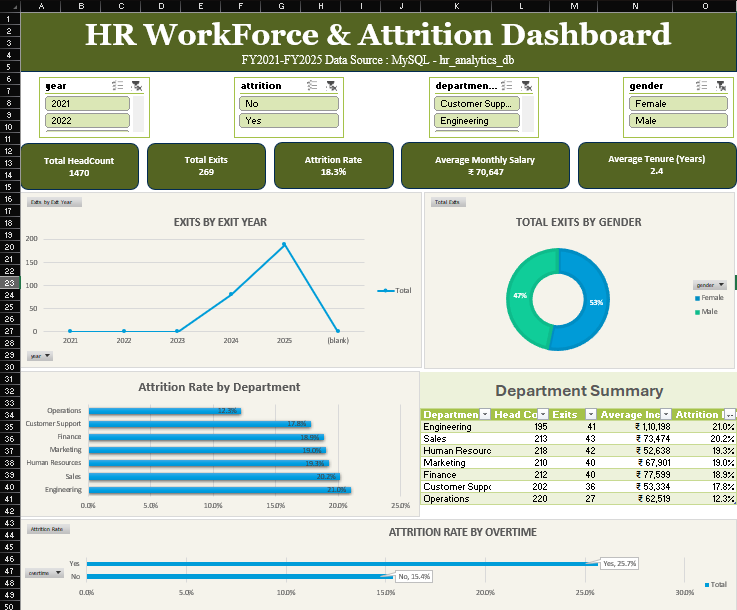

The dashboard page shown, as its layout file describes it:
{"tool":"powerbi","page":{"name":"HR Workforce & Attrition Dashboard","canvas":[1920,1080],"ordinal":0},"visuals":[{"type":"textbox","box":[69.8,0,1044.8,111.6],"z":0},{"type":"slicer","fields":{"Values":["dim_date.year"]},"box":[1329.1,20.9,162.2,70],"z":1000},{"type":"slicer","fields":{"Values":["dim_department.department_name"]},"box":[1508.7,20.9,162.2,70],"z":2000},{"type":"slicer","fields":{"Values":["fact_attrition.attrition"]},"box":[1686.3,20.9,162.2,70],"z":3000},{"type":"cardVisual","fields":{"Data":["_Measures.Total Headcount"]},"box":[69.8,95.9,359.3,115.1],"z":4000},{"type":"cardVisual","fields":{"Data":["_Measures.Attrition Rate"]},"box":[1017.4,94.2,359.3,116.9],"z":5000},{"type":"cardVisual","fields":{"Data":["_Measures.Avg Monthly Income"]},"box":[543.6,94.2,359.3,116.9],"z":6000},{"type":"cardVisual","fields":{"Data":["_Measures.Avg Tenure(Years)"]},"box":[1491.3,94.2,359.3,116.9],"z":7000},{"type":"lineChart","fields":{"Category":["dim_date.year"],"Y":["_Measures.Exits by Exit Year"]},"box":[69.8,211,1254.1,294.8],"z":8000},{"type":"donutChart","fields":{"Category":["fact_attrition.gender"],"Y":["_Measures.Total Exits"]},"box":[1323.8,212.8,526.7,293],"z":9000},{"type":"barChart","fields":{"Category":["dim_department.department_name"],"Y":["_Measures.Attrition Rate"]},"box":[69.8,507.6,1173.8,354.1],"z":10000},{"type":"tableEx","fields":{"Values":["dim_department.department_name","_Measures.Total Headcount","_Measures.Avg Monthly Income","_Measures.Attrition Rate"]},"box":[1243.6,507.6,607,354.1],"z":11000},{"type":"barChart","fields":{"Category":["fact_attrition.overtime"],"Y":["_Measures.Attrition Rate"]},"box":[69.8,859.9,1780.8,219.8],"z":12000},{"type":"tableEx","fields":{"Values":["dim_department.department_name"]},"box":[1918.6,446.5,181.4,269.8],"z":13000}]}

Visuals, with their boxes on the page's 1920x1080 design canvas (x1, y1, x2, y2). These are canvas units, not pixel positions in the 737x610 screenshot, which may show the page scaled, cropped or inside an application window:
textbox: [70,0,1115,112]
slicer - dim_date.year: [1329,21,1491,91]
slicer - dim_department.department_name: [1509,21,1671,91]
slicer - fact_attrition.attrition: [1686,21,1848,91]
cardVisual - _Measures.Total Headcount: [70,96,429,211]
cardVisual - _Measures.Attrition Rate: [1017,94,1377,211]
cardVisual - _Measures.Avg Monthly Income: [544,94,903,211]
cardVisual - _Measures.Avg Tenure(Years): [1491,94,1851,211]
lineChart - dim_date.year x _Measures.Exits by Exit Year: [70,211,1324,506]
donutChart - fact_attrition.gender x _Measures.Total Exits: [1324,213,1850,506]
barChart - dim_department.department_name x _Measures.Attrition Rate: [70,508,1244,862]
tableEx - dim_department.department_name x _Measures.Total Headcount: [1244,508,1851,862]
barChart - fact_attrition.overtime x _Measures.Attrition Rate: [70,860,1851,1080]
tableEx - dim_department.department_name: [1919,446,2100,716]
